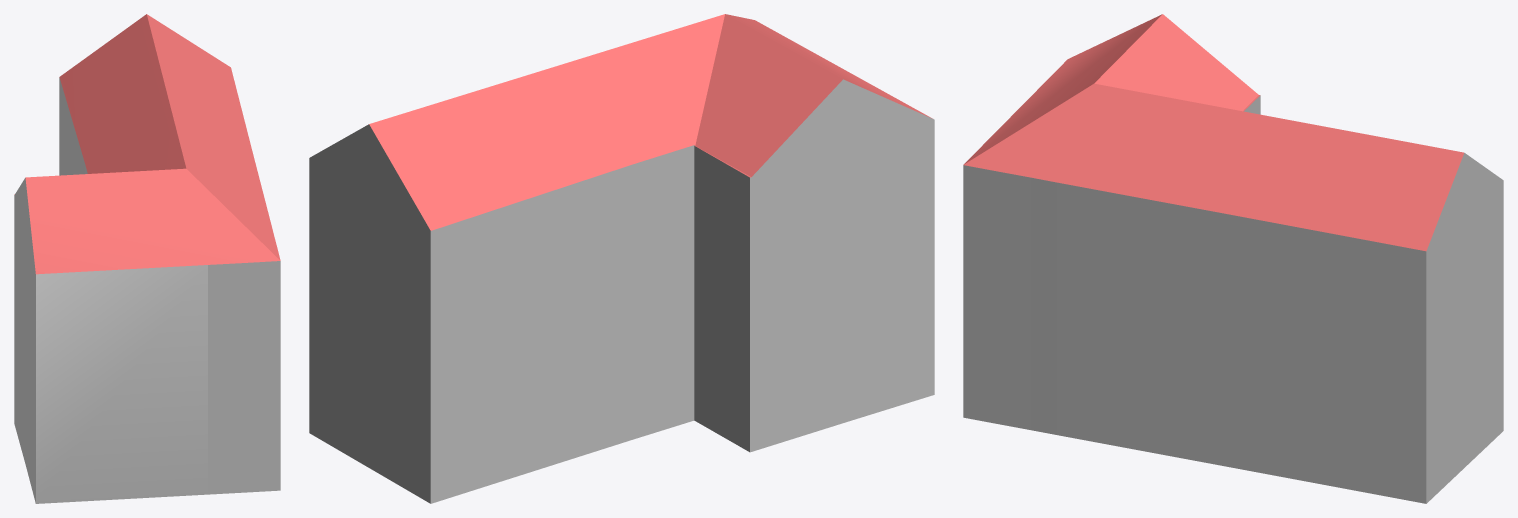
The model's file is DEBY_LOD2_4907025.gltf.
3 views of the same model, side by side, from view 1: azimuth 30°, elevation 25°; view 2: azimuth 150°, elevation 25°; view 3: azimuth 270°, elevation 25° (orthographic). The views are drawn at different scales.
Parts seen in each view (by area): view 1: Z_UP; view 2: Z_UP; view 3: Z_UP.
Boxes of the visible parts, left/top/right/bottom form: Z_UP: left=14, top=14, right=280, bottom=503; Z_UP: left=309, top=14, right=934, bottom=503; Z_UP: left=963, top=14, right=1503, bottom=503.
Size of the model in its own units: 29.29 by 22.41 by 34.81.
